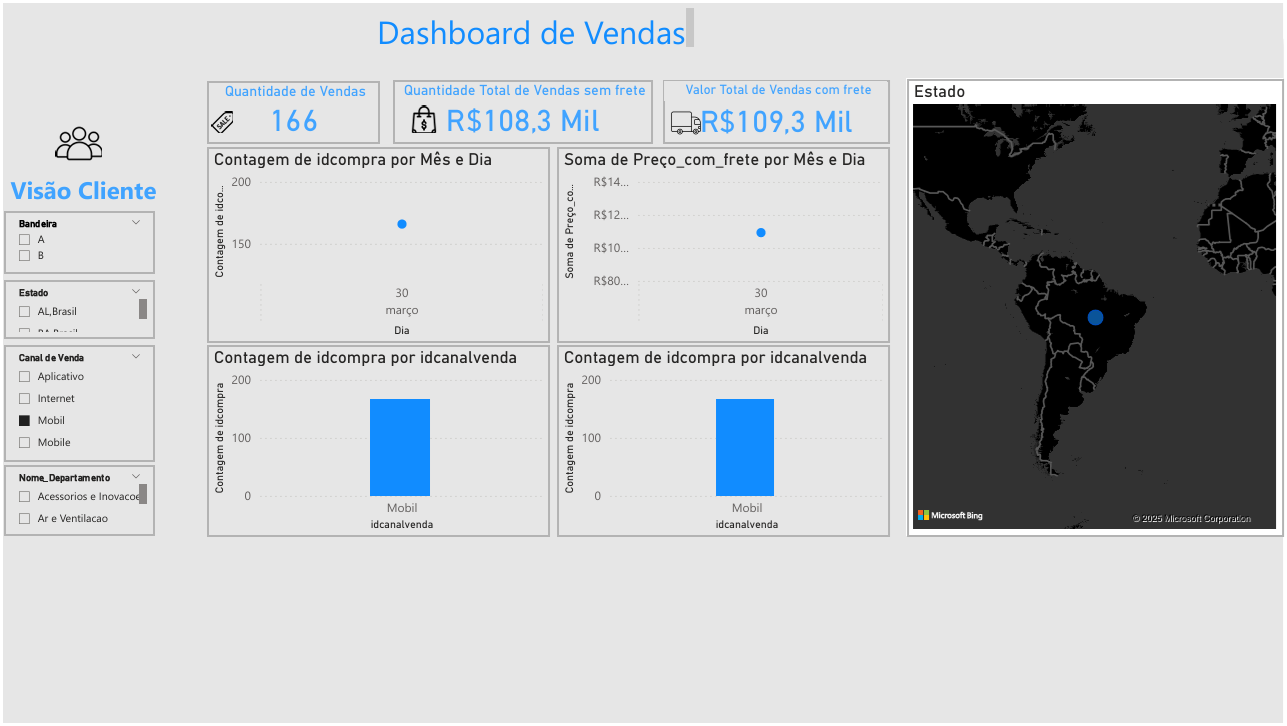

The page's visual inventory and layout, read from the dashboard file:
{"tool":"powerbi","page":{"name":"Visão cliente","canvas":[1280,720],"ordinal":0},"visuals":[{"type":"card","title":"Quantidade de Vendas","fields":{"Values":["Count(base compra.idcompra)"]},"box":[202.9,77.1,172.9,62.9],"z":0},{"type":"card","title":"Quantidade Total de Vendas sem frete","fields":{"Values":["Sum(base compra.Preço)"]},"box":[388.6,75.7,260,64.3],"z":1000},{"type":"card","title":"Valor Total de Vendas com frete","fields":{"Values":["Sum(base compra.Preço_com_frete)"]},"box":[658.6,75.7,227.1,64.3],"z":2000},{"type":"lineChart","fields":{"Category":["base compra.Data.Variation.Hierarquia de datas.Mês","base compra.Data.Variation.Hierarquia de datas.Dia"],"Y":["Count(base compra.idcompra)"]},"box":[202.9,142.9,342.9,195.7],"z":3000},{"type":"lineChart","fields":{"Category":["base compra.Data.Variation.Hierarquia de datas.Mês","base compra.Data.Variation.Hierarquia de datas.Dia"],"Y":["Sum(base compra.Preço_com_frete)"]},"box":[553,143,333,196],"z":4000},{"type":"columnChart","fields":{"Category":["base compra.idcanalvenda"],"Y":["Count(base compra.idcompra)"]},"box":[202.9,341.4,342.9,191.4],"z":5000},{"type":"columnChart","fields":{"Category":["base compra.idcanalvenda"],"Y":["CountNonNull(base compra.idcompra)"]},"box":[553,341,333,192],"z":6000},{"type":"slicer","fields":{"Values":["base compra.bandeira"]},"box":[0,206.7,150.8,63.3],"z":7000},{"type":"slicer","fields":{"Values":["base compra.estado"]},"box":[0,275.8,150.8,59.2],"z":8000},{"type":"slicer","fields":{"Values":["base compra.idcanalvenda"]},"box":[0,340.8,150.8,116.7],"z":9000},{"type":"slicer","fields":{"Values":["base compra.Nome_Departamento"]},"box":[0,460.8,150.8,70.8],"z":10000},{"type":"textbox","box":[0,164.2,159.2,42.5],"z":11000},{"type":"image","box":[42.5,110.8,65.8,57.5],"z":12000},{"type":"image","box":[203.1,96.9,32.3,43.1],"z":13000},{"type":"image","box":[400.8,96.9,38.5,37.7],"z":14000},{"type":"textbox","box":[367.1,0,328.6,51.4],"z":15000},{"type":"image","box":[648.6,97.9,66.4,42.1],"z":16000},{"type":"map","title":"Estado","fields":{"Category":["base compra.País"]},"box":[903.3,75,376.7,458.3],"z":17000}]}

Visuals, with their boxes on the page's 1280x720 design canvas (x1, y1, x2, y2). These are canvas units, not pixel positions in the 1287x726 screenshot, which may show the page scaled, cropped or inside an application window:
"Quantidade de Vendas" card: 203, 77, 376, 140
"Quantidade Total de Vendas sem frete" card: 389, 76, 649, 140
"Valor Total de Vendas com frete" card: 659, 76, 886, 140
lineChart - base compra.Data.Variation.Hierarquia de datas.Mês x base compra.Data.Variation.Hierarquia de datas.Dia: 203, 143, 546, 339
lineChart - base compra.Data.Variation.Hierarquia de datas.Mês x base compra.Data.Variation.Hierarquia de datas.Dia: 553, 143, 886, 339
columnChart - base compra.idcanalvenda x Count(base compra.idcompra): 203, 341, 546, 533
columnChart - base compra.idcanalvenda x CountNonNull(base compra.idcompra): 553, 341, 886, 533
slicer - base compra.bandeira: 0, 207, 151, 270
slicer - base compra.estado: 0, 276, 151, 335
slicer - base compra.idcanalvenda: 0, 341, 151, 458
slicer - base compra.Nome_Departamento: 0, 461, 151, 532
textbox: 0, 164, 159, 207
image: 42, 111, 108, 168
image: 203, 97, 235, 140
image: 401, 97, 439, 135
textbox: 367, 0, 696, 51
image: 649, 98, 715, 140
"Estado" map: 903, 75, 1280, 533
